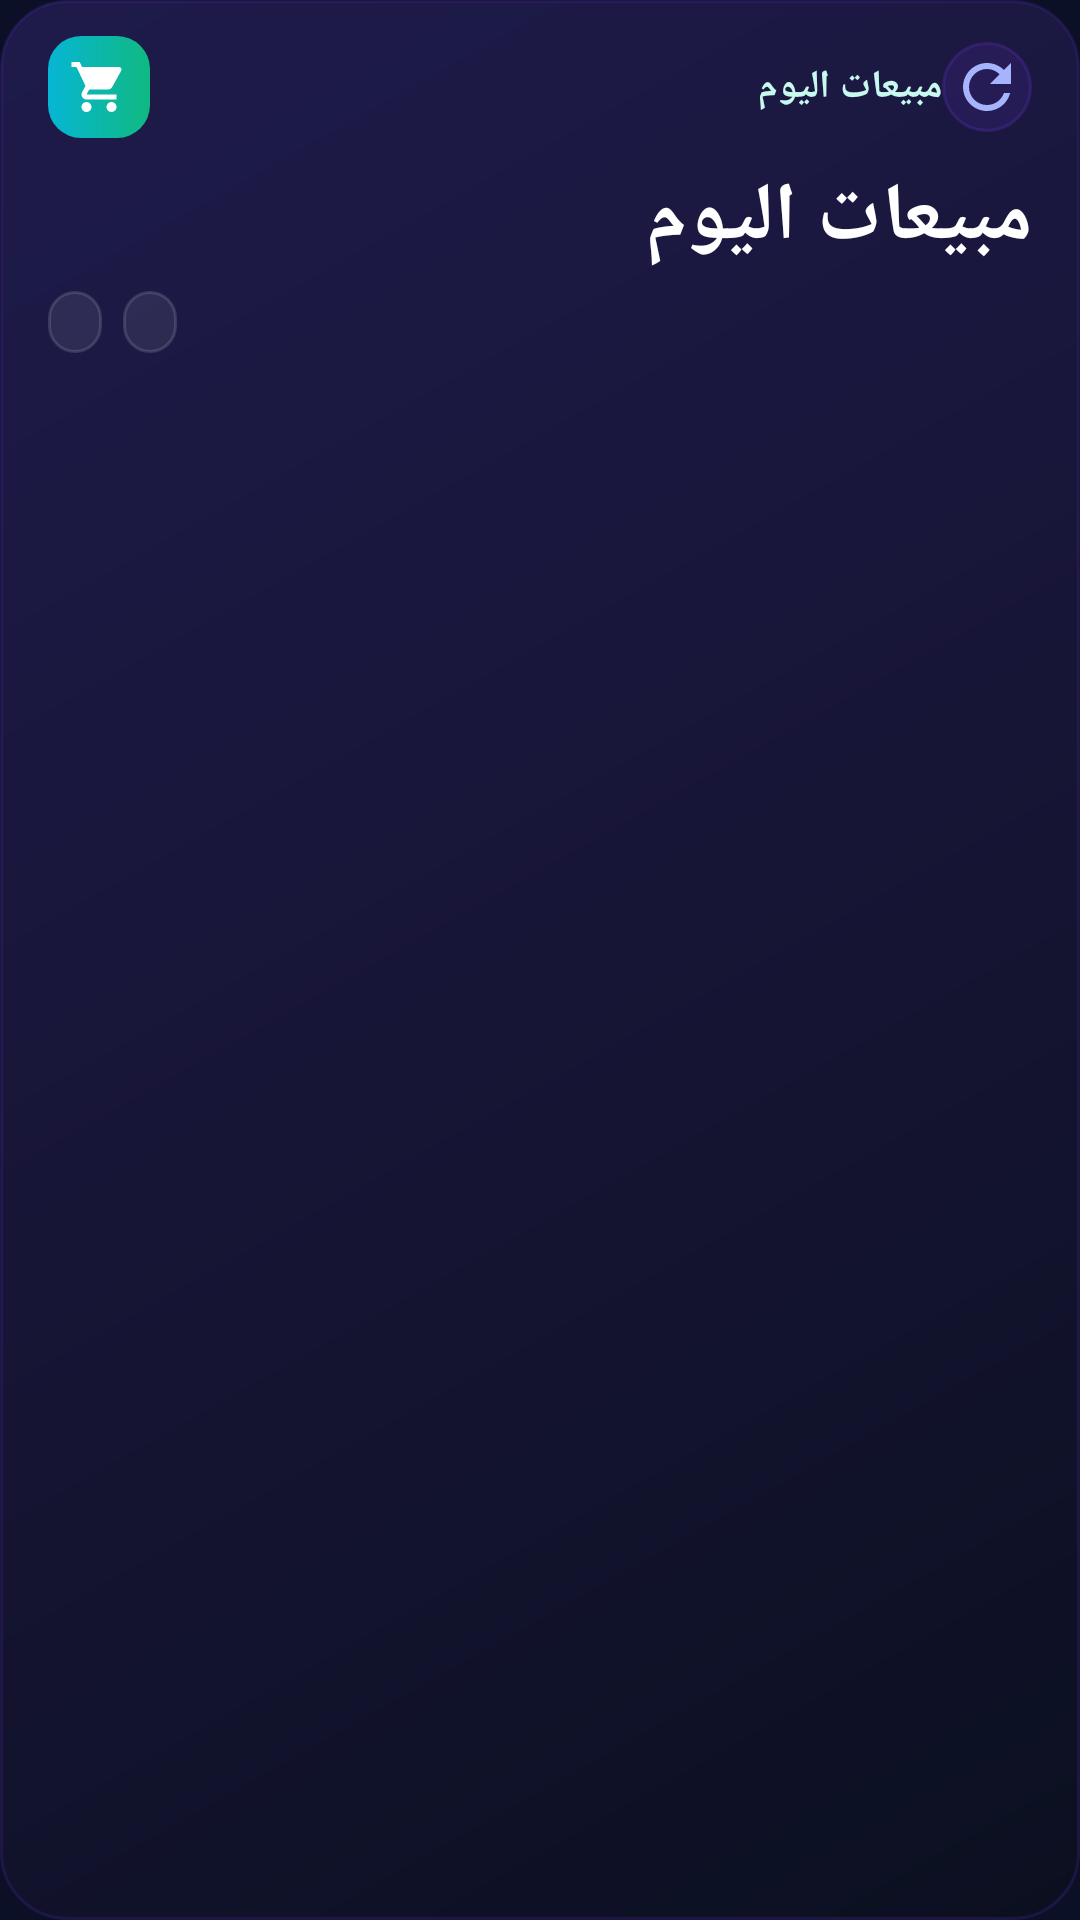

Where to tap for icons on this 1080 × 1920 app screen, as (x=x, y=y):
widget refresh: (x=987, y=87)
